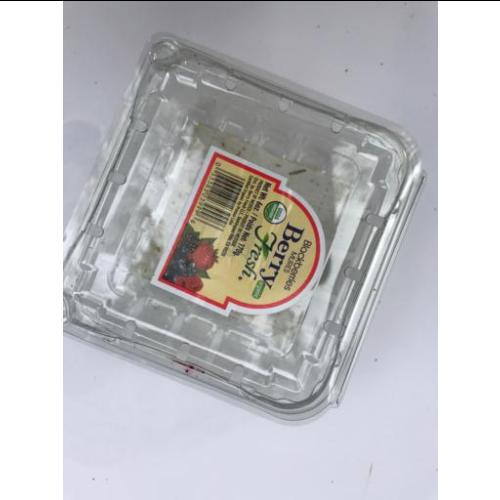plastic: (63, 36, 425, 418)
